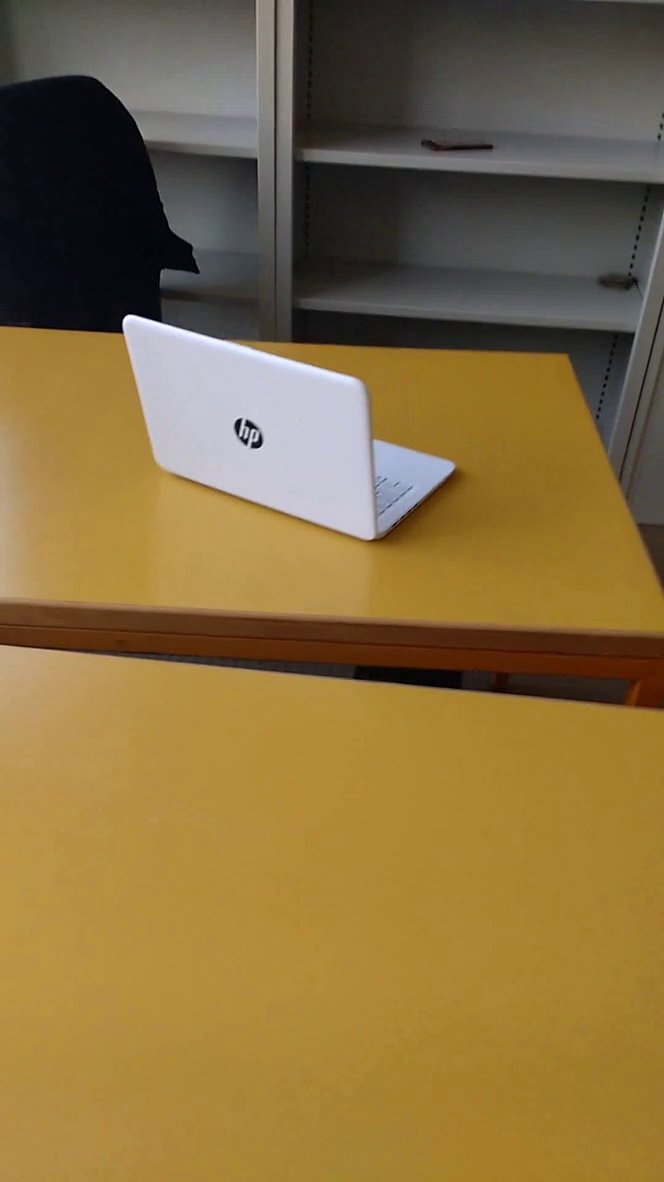laptop: (115, 302, 464, 550)
